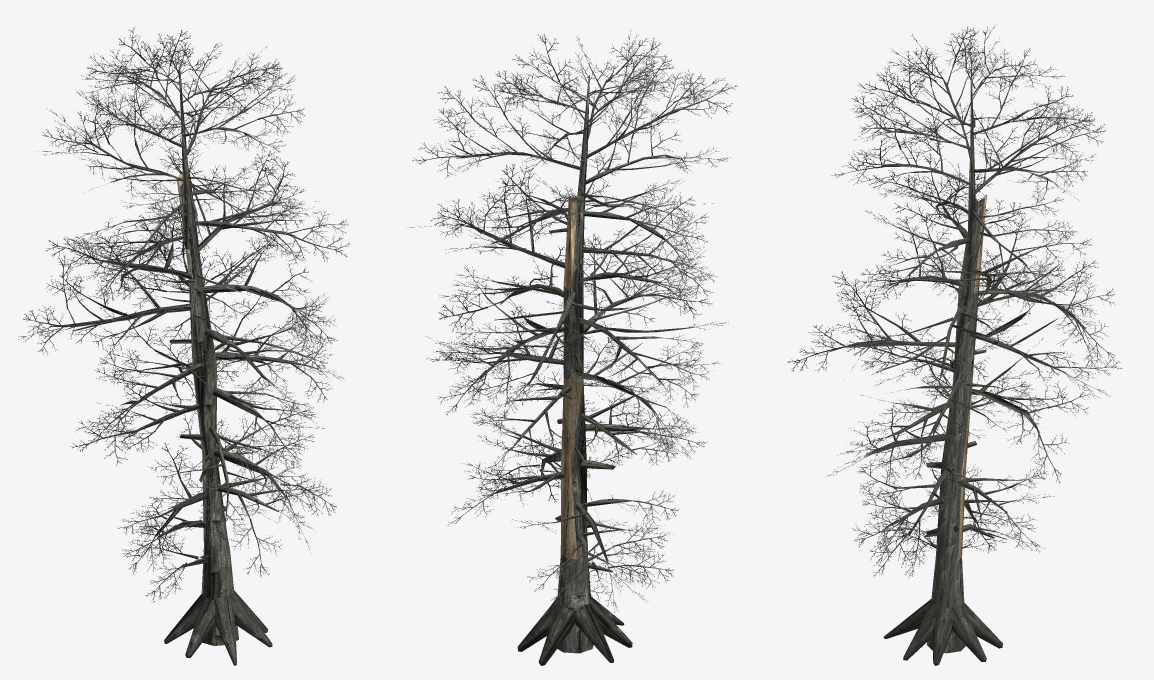
Rendered from mm6_deco_tree28.glb.
3 views of the same model, side by side, from view 1: azimuth 30°, elevation 25°; view 2: azimuth 150°, elevation 25°; view 3: azimuth 270°, elevation 25° (orthographic). The views are drawn at different scales.
Parts seen in each view (by area): view 1: Tree; view 2: Tree; view 3: Tree.
Part boxes in pixels (x1,y1,x2,y2): Tree: (18, 27, 349, 665); Tree: (410, 29, 738, 665); Tree: (787, 26, 1122, 665).
Size of the model in its own units: 2.02 by 3.78 by 2.07.
Materials: 3 (3 with a texture image).
